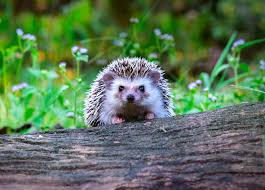hedgehog: (80, 55, 180, 130)
